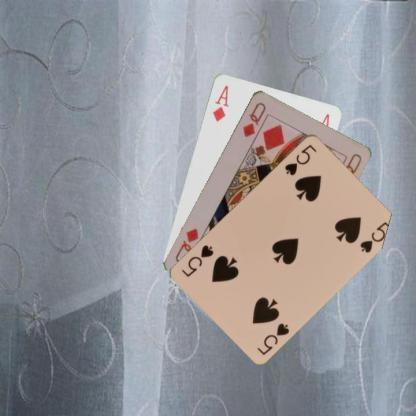5s: (254, 320, 291, 357), (282, 141, 318, 176)
Ad: (210, 82, 230, 124)
Qd: (240, 100, 267, 140)
